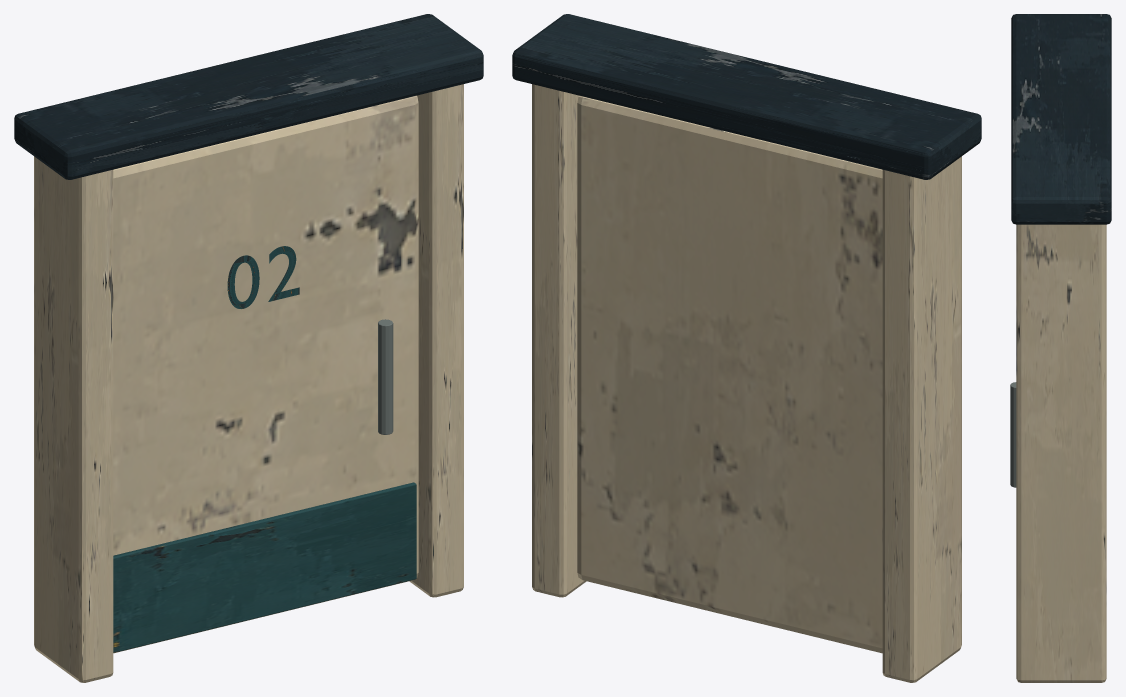
The model's file is cold-storage-door.glb.
The picture shows the model from 3 angles, left to right: view 1: azimuth 30°, elevation 25°; view 2: azimuth 150°, elevation 25°; view 3: azimuth 270°, elevation 25°; orthographic projection. The views are drawn at different scales.
Parts seen in each view (by area): view 1: cold-storage-door__cold-door__ivory, cold-storage-door__cold-storage-door__ivory, cold-storage-door__cold-storage-door__steel, cold-storage-door__cold-door__petrol, cold-storage-door__cold-door__hardware; view 2: cold-storage-door__cold-door__ivory, cold-storage-door__cold-storage-door__ivory, cold-storage-door__cold-storage-door__steel; view 3: cold-storage-door__cold-storage-door__ivory, cold-storage-door__cold-storage-door__steel, cold-storage-door__cold-door__hardware.
Boxes of the visible parts, <box> form: cold-storage-door__cold-door__ivory: <box>113,95,418,653</box>; cold-storage-door__cold-storage-door__ivory: <box>34,84,463,682</box>; cold-storage-door__cold-storage-door__steel: <box>14,14,483,179</box>; cold-storage-door__cold-door__petrol: <box>113,246,416,652</box>; cold-storage-door__cold-door__hardware: <box>378,319,393,434</box>; cold-storage-door__cold-door__ivory: <box>577,95,882,653</box>; cold-storage-door__cold-storage-door__ivory: <box>532,84,961,682</box>; cold-storage-door__cold-storage-door__steel: <box>512,14,981,179</box>; cold-storage-door__cold-storage-door__ivory: <box>1016,224,1106,682</box>; cold-storage-door__cold-storage-door__steel: <box>1011,14,1111,224</box>; cold-storage-door__cold-door__hardware: <box>1010,382,1016,487</box>.
Bounding box in the file's own units: 2.2 × 2.71 × 0.505.
Materials: 4 (3 with a texture image).
